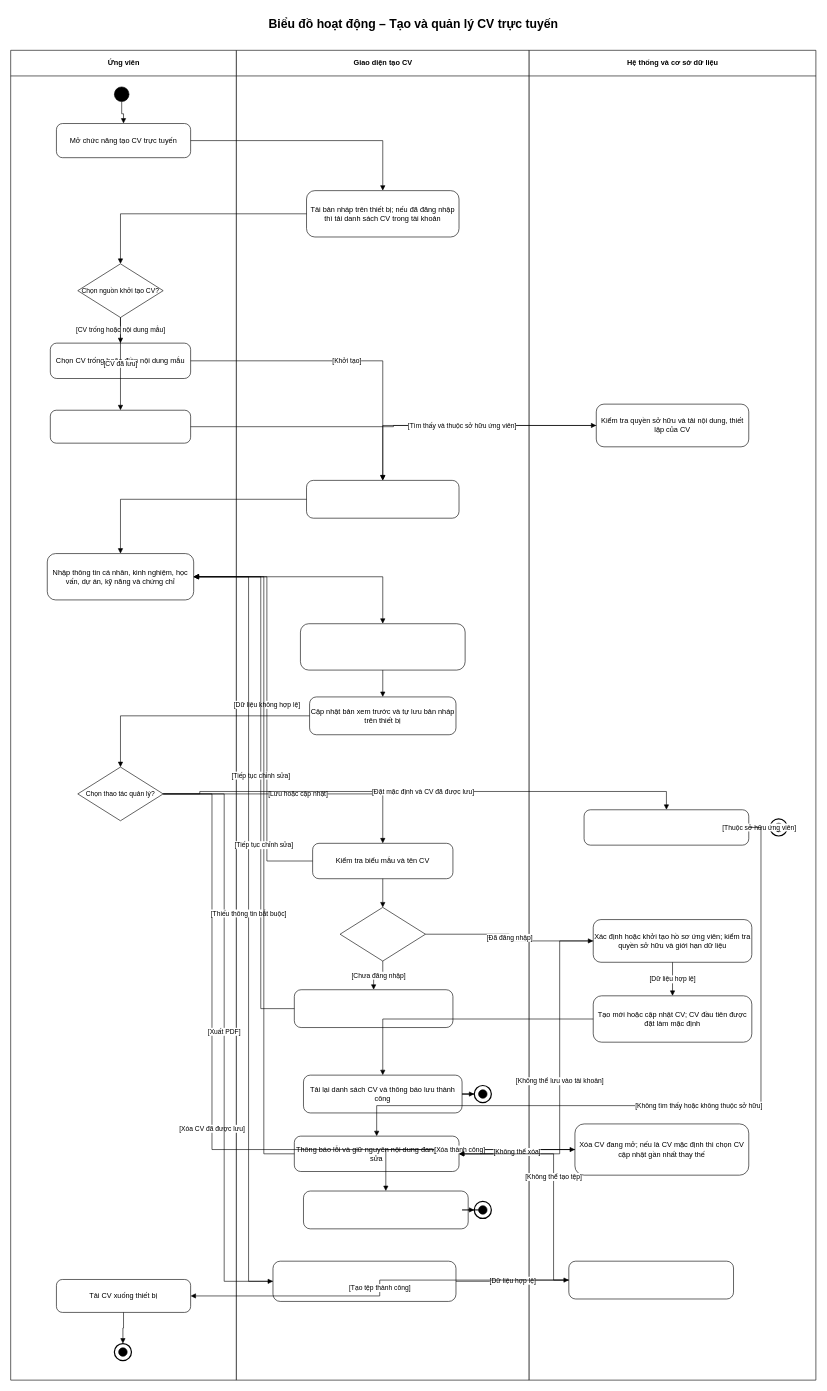
The diagram is 827 pixels wide and 1391 high, and some of its shapes have lost their labels. The centre of each missing label's shape, as x and y in pixels:
"Chuẩn hóa dữ liệu và hiển thị bản xem trước" goes at pixel 382 499.
"Chọn một CV đã lưu" goes at pixel 120 426.
"Khởi tạo lại trình soạn thảo và tải lại danh sách CV" goes at pixel 385 1209.
"Kiểm tra biểu mẫu và yêu cầu có email hoặc số điện thoại" goes at pixel 364 1281.
"Lưu bản nháp trên thiết bị và yêu cầu đăng nhập tài khoản ứng viên" goes at pixel 373 1008.
"Tùy chỉnh mẫu, màu chữ, phông chữ, cỡ chữ, khung và thứ tự các mục" goes at pixel 382 646.
"Tạo tệp PDF khổ A4 từ bản xem trước" goes at pixel 651 1280.
"Đã đăng nhập tài khoản ứng viên?" goes at pixel 382 934.
"Đặt CV đang mở làm CV mặc định" goes at pixel 666 827.
